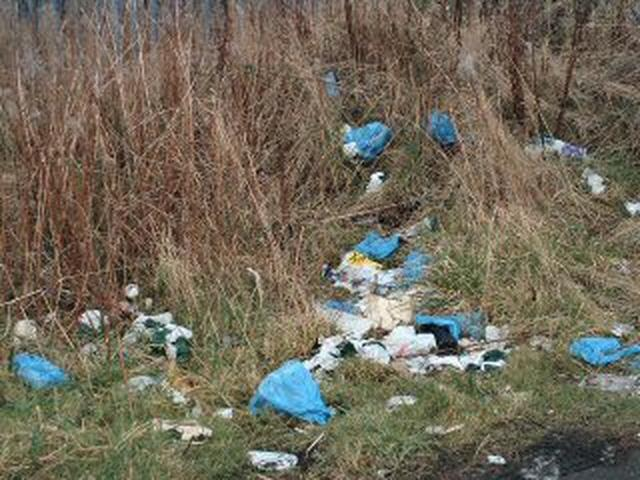garbage: (342, 248, 416, 366)
